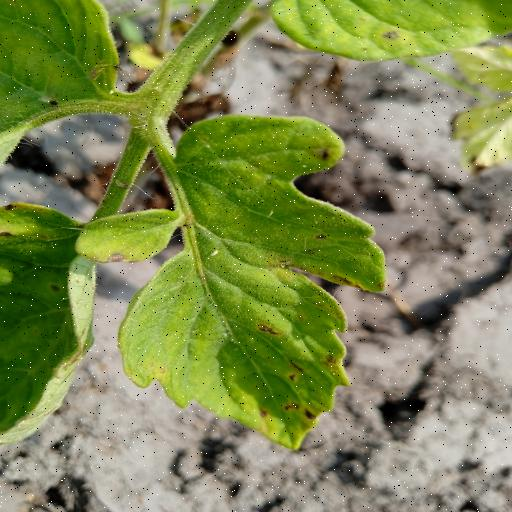Tomato_Brown_Spots: (77, 114, 395, 456), (0, 198, 109, 447)
